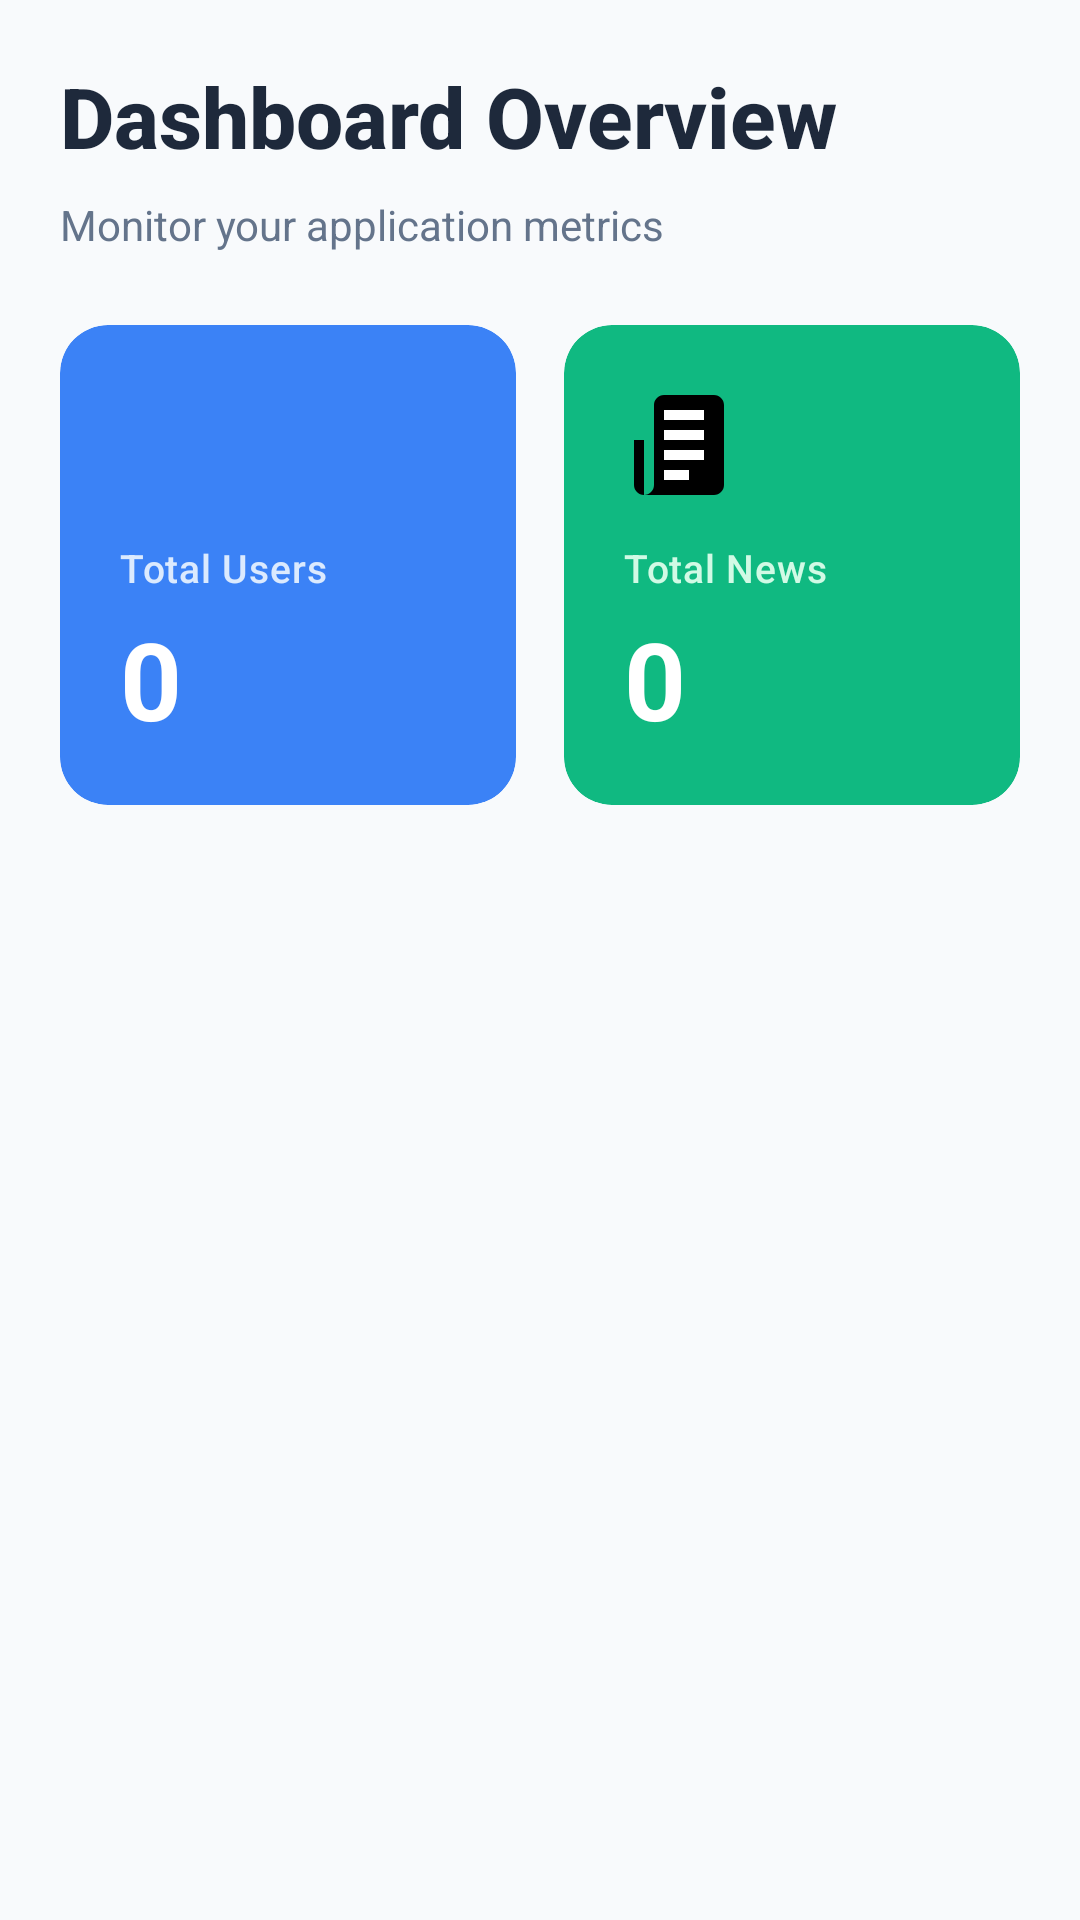

Icon bounding boxes for this 1080 x 1920 phone screenshot, format (x1, y1, x2, y2):
newspaper: (634, 395, 724, 495)
